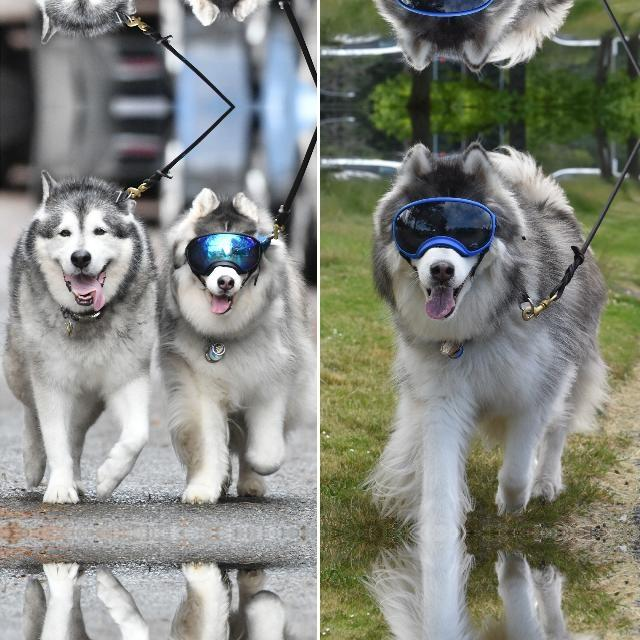dog: (360, 135, 620, 533), (359, 532, 620, 640), (359, 0, 620, 77)
